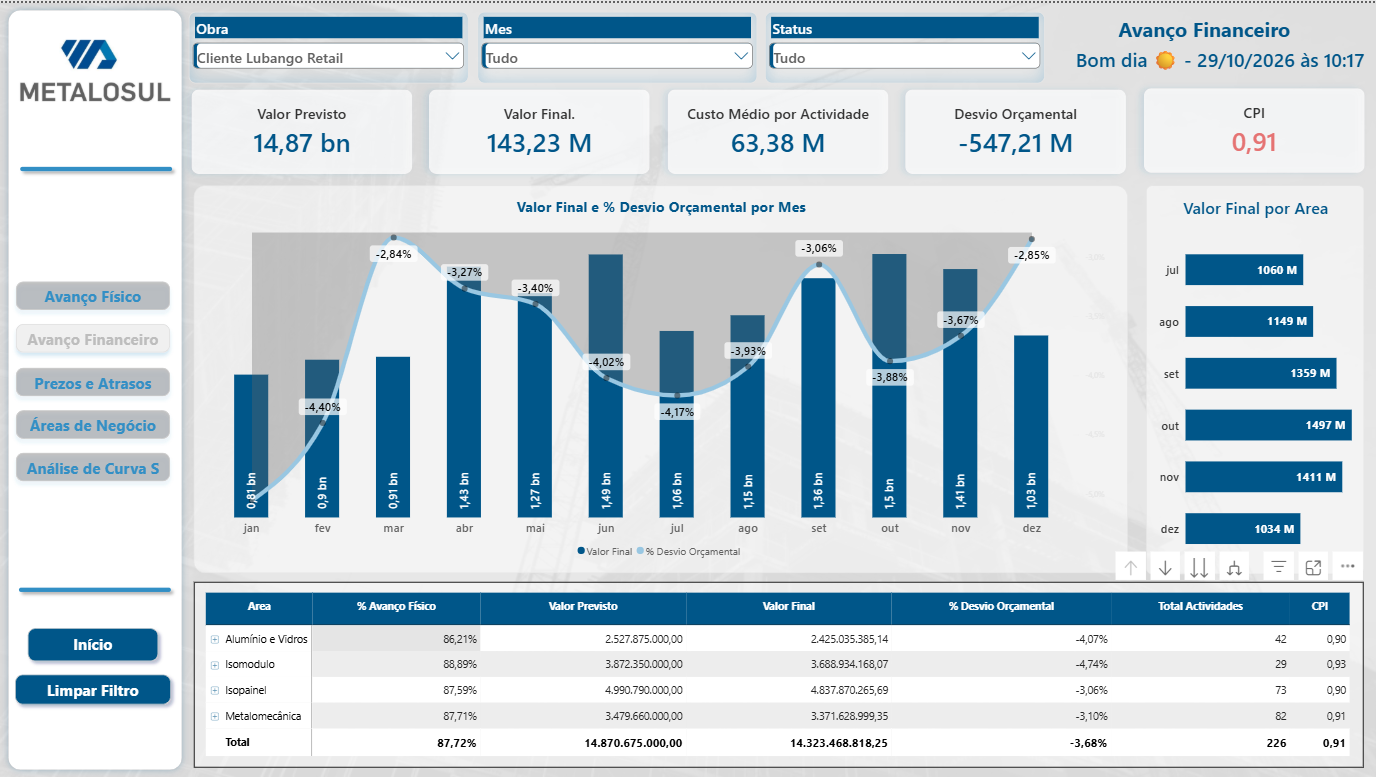

What the dashboard file says about the page in this screenshot:
{"tool":"powerbi","page":{"name":"Avanço Financeiro","canvas":[1920,1080],"ordinal":1},"visuals":[{"type":"shape","box":[2,0,262,1080],"z":0},{"type":"image","box":[24.6,37.7,216.2,102.3],"z":1000},{"type":"cardVisual","fields":{"Data":["Fact_Producao.Saudação"]},"box":[1445.7,58.6,468,52],"z":2000,"group":"g1"},{"type":"actionButton","box":[12.4,378,235,60],"z":2000},{"type":"shape","box":[18.3,186.7,230,90],"z":3000},{"type":"actionButton","box":[12.4,438,235,60],"z":4000},{"type":"actionButton","box":[12,498,235,60],"z":5000},{"type":"actionButton","box":[12.4,558,235,60],"z":6000},{"type":"actionButton","box":[12.4,618,235,60],"z":7000},{"type":"shape","box":[17.7,774.6,230,88.8],"z":8000},{"type":"actionButton","box":[29.9,864,200,64],"z":9000},{"type":"actionButton","box":[12.4,928,235,60],"z":10000},{"type":"cardVisual","fields":{"Data":["Fact_Producao.Valor Previsto"]},"box":[251.2,104,340,150],"z":11000},{"type":"cardVisual","fields":{"Data":["Fact_Producao.Desvio Orçamental"]},"box":[1247.8,104,340,150],"z":12000},{"type":"cardVisual","fields":{"Data":["Fact_Producao.Valor Final."]},"box":[583.4,104,340,150],"z":13000},{"type":"cardVisual","fields":{"Data":["Fact_Producao.Custo Médio por Actividade"]},"box":[915.6,104,340,150],"z":14000},{"type":"cardVisual","fields":{"Data":["Fact_Producao.CPI"]},"box":[1580,103.3,340,150],"z":15000},{"type":"slicer","fields":{"Values":["Dim_Obras.Nome_Obra"]},"box":[264,12,390,100],"z":16000},{"type":"slicer","fields":{"Values":["Dim_Datas.Mes"]},"box":[665.5,12,390,100],"z":17000},{"type":"slicer","fields":{"Values":["Fact_Producao.Status"]},"box":[1068,12,390,100],"z":18000},{"type":"group","id":"g1","title":"Grupo 1","box":[1445.7,14.3,468.6,95.7],"z":19000},{"type":"shape","box":[1457.1,14.3,444.4,43.3],"z":19001,"group":"g1"},{"type":"lineStackedColumnComboChart","fields":{"Category":["Dim_Datas.Mes"],"Y":["Fact_Producao.Valor Final"],"Y2":["Fact_Producao.% Desvio Orçamental"]},"box":[270,255,1303,541],"z":20000},{"type":"clusteredBarChart","title":"Valor Final por Area","fields":{"Category":["Dim_Datas.Mes"],"Y":["Fact_Producao.Valor Final"]},"box":[1599,254,304,542],"z":21000},{"type":"pivotTable","fields":{"Rows":["Dim_Produtos.Area","Dim_Produtos.Produto"],"Values":["Fact_Producao.% Avanço Físico","Fact_Producao.Valor Previsto","Fact_Producao.Valor Final","Fact_Producao.% Desvio Orçamental","Fact_Producao.Total Actividades","Fact_Producao.CPI"]},"box":[270,808,1632.5,260],"z":22000}]}

Visuals, with their boxes in screenshot pixels (x1, y1, x2, y2), scaled from the page's 1920x1080 canvas onto the 1376x777 screenshot:
shape: bbox(1, 0, 189, 776)
image: bbox(18, 27, 173, 101)
cardVisual - Fact_Producao.Saudação: bbox(1036, 42, 1371, 80)
actionButton: bbox(9, 272, 177, 315)
shape: bbox(13, 134, 178, 199)
actionButton: bbox(9, 315, 177, 358)
actionButton: bbox(9, 358, 177, 401)
actionButton: bbox(9, 401, 177, 445)
actionButton: bbox(9, 445, 177, 488)
shape: bbox(13, 557, 178, 621)
actionButton: bbox(21, 622, 165, 668)
actionButton: bbox(9, 668, 177, 711)
cardVisual - Fact_Producao.Valor Previsto: bbox(180, 75, 424, 183)
cardVisual - Fact_Producao.Desvio Orçamental: bbox(894, 75, 1138, 183)
cardVisual - Fact_Producao.Valor Final.: bbox(418, 75, 662, 183)
cardVisual - Fact_Producao.Custo Médio por Actividade: bbox(656, 75, 900, 183)
cardVisual - Fact_Producao.CPI: bbox(1132, 74, 1375, 182)
slicer - Dim_Obras.Nome_Obra: bbox(189, 9, 469, 81)
slicer - Dim_Datas.Mes: bbox(477, 9, 756, 81)
slicer - Fact_Producao.Status: bbox(765, 9, 1045, 81)
"Grupo 1" group: bbox(1036, 10, 1372, 79)
shape: bbox(1044, 10, 1363, 41)
lineStackedColumnComboChart - Dim_Datas.Mes x Fact_Producao.Valor Final: bbox(194, 183, 1127, 573)
"Valor Final por Area" clusteredBarChart: bbox(1146, 183, 1364, 573)
pivotTable - Dim_Produtos.Area x Dim_Produtos.Produto: bbox(194, 581, 1363, 768)
